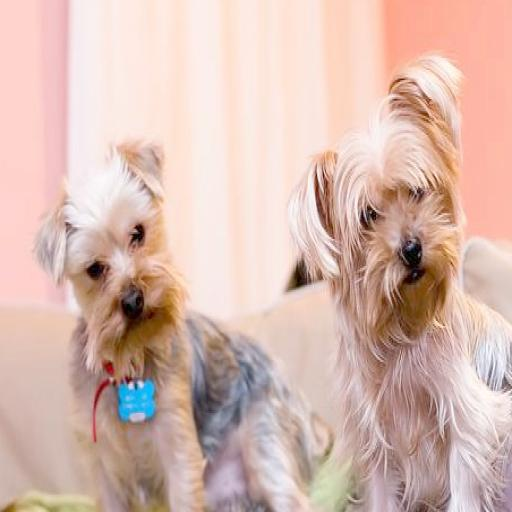dog_face: (285, 55, 466, 339), (35, 138, 182, 362)
